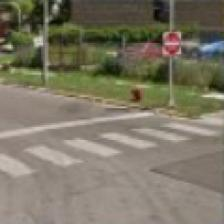crosswalk: (0, 121, 222, 183)
